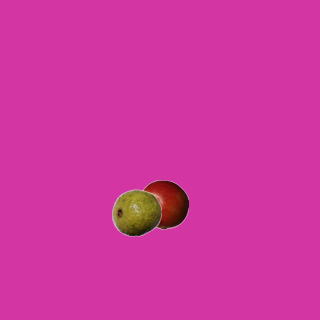Apple Braeburn: (138, 179, 188, 229)
Guava: (111, 187, 161, 237)
